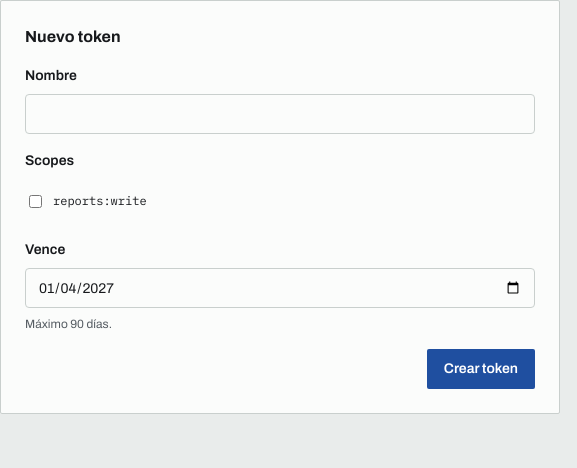
Test: TokenCreateForm (WO-580, SDD-056) › shows what the server refused, and keeps what was typed
Step 1. Type "ci" into the field labelled "Nombre" → (280, 114), box [25, 94, 535, 134]
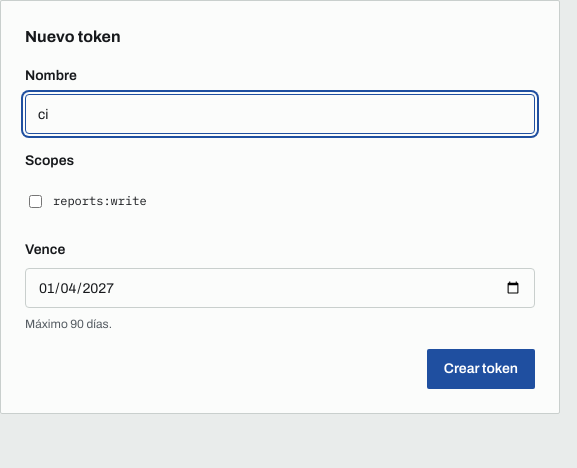
Step 2. Click the checkbox labelled "reports:write" → (36, 201), box [29, 194, 42, 208]
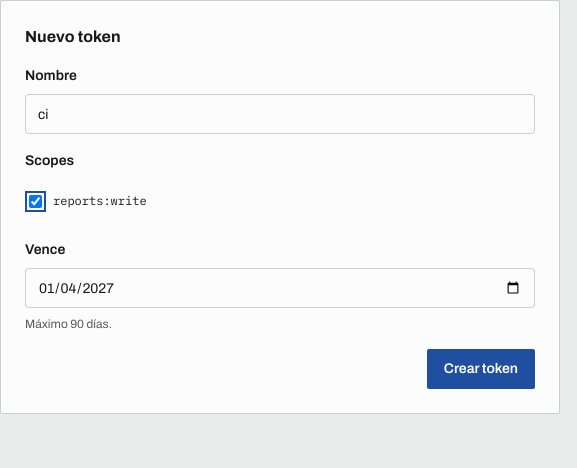
Step 3. Click the button "Crear token" → (481, 369), box [427, 349, 535, 389]
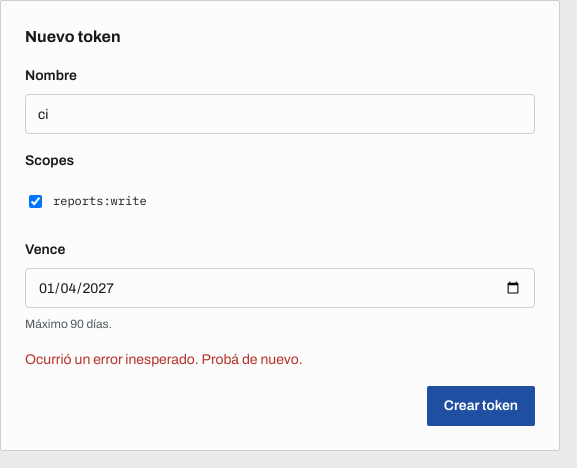
Result: the message "Ocurrió un error inesperado. Probá de nuevo." is shown at [25, 352, 303, 367]
